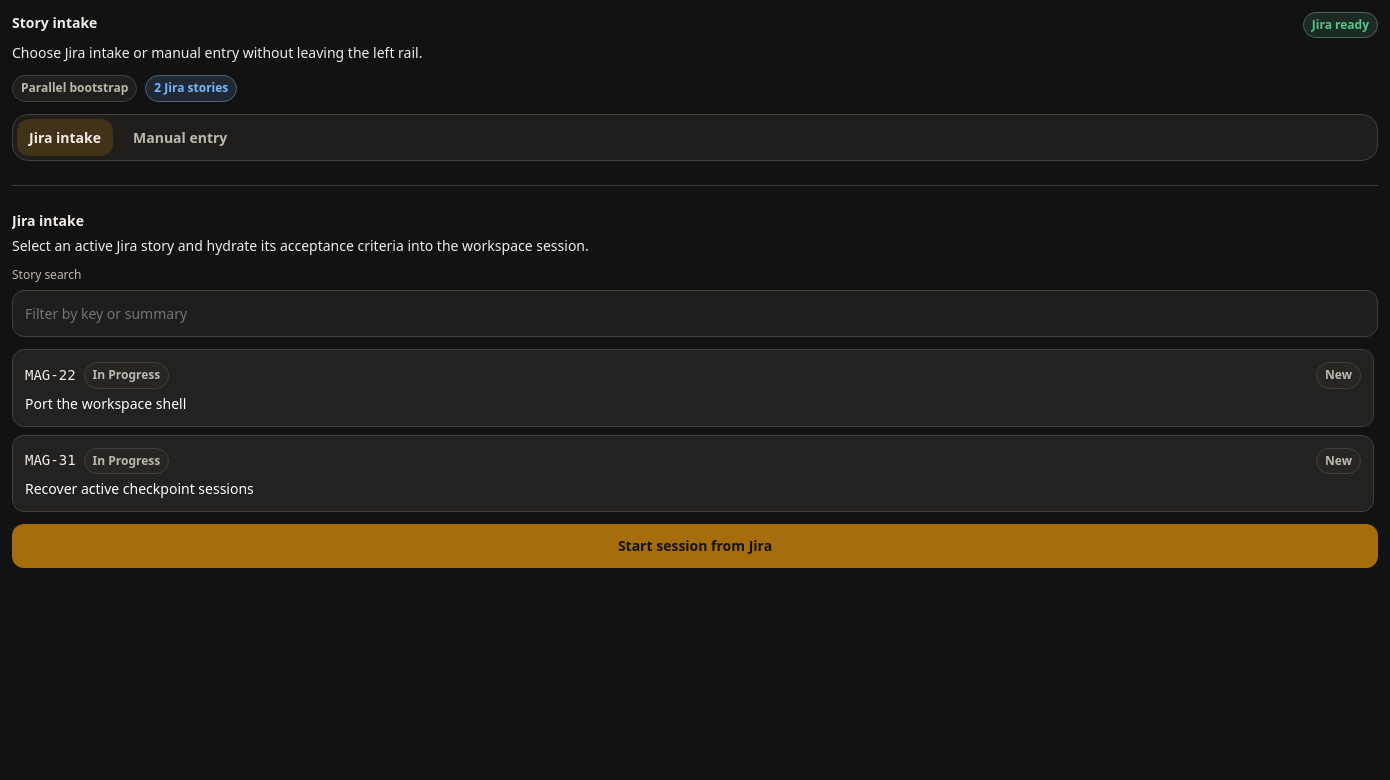
Test: Session bootstrap query layer › filters populated stories while keeping search input responsive
The image size is (1390, 780).
Type "checkpoint" into the search field labelled "Story search" at (695, 314), box x1=12 y1=290 x2=1378 y2=337
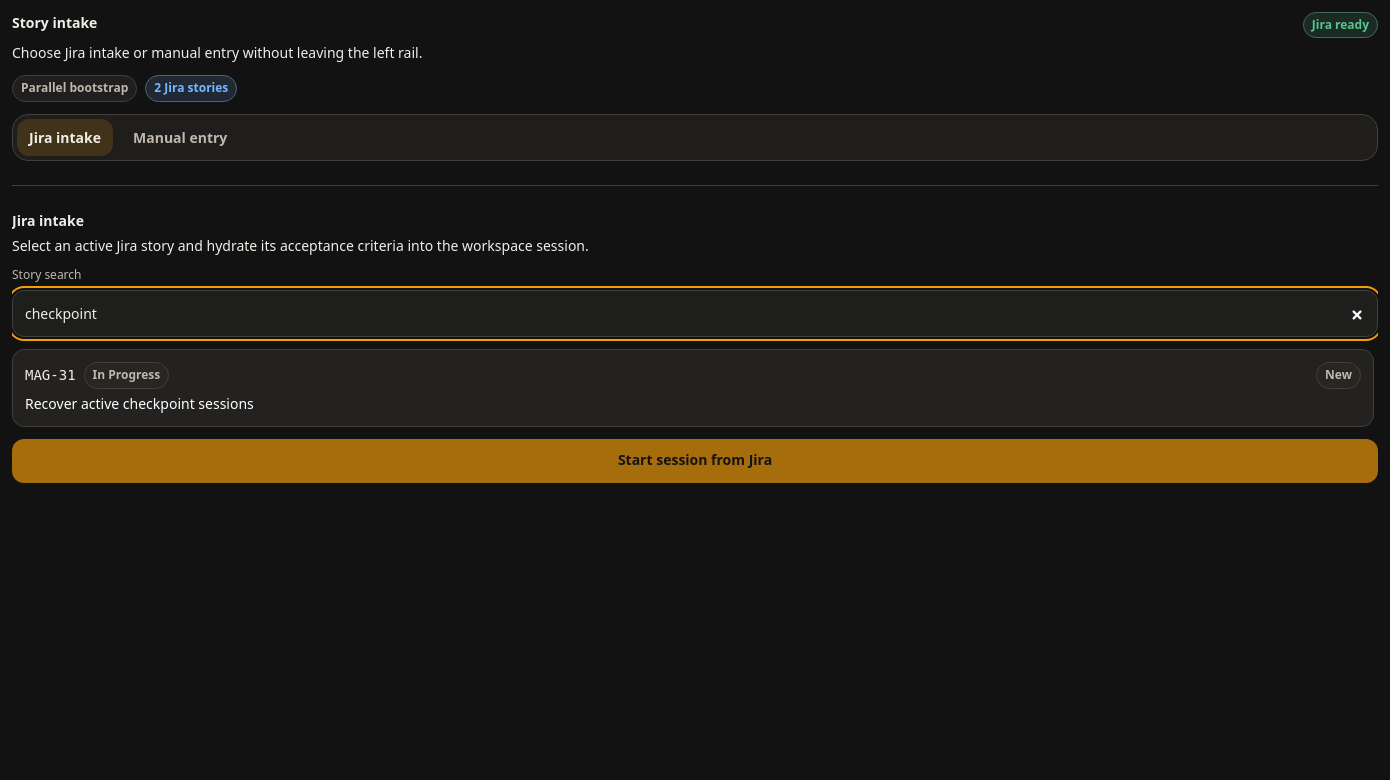
expect the text "MAG-31" is shown: met, box x1=25 y1=365 x2=76 y2=386
expect the button "MAG-22" is gone: met
